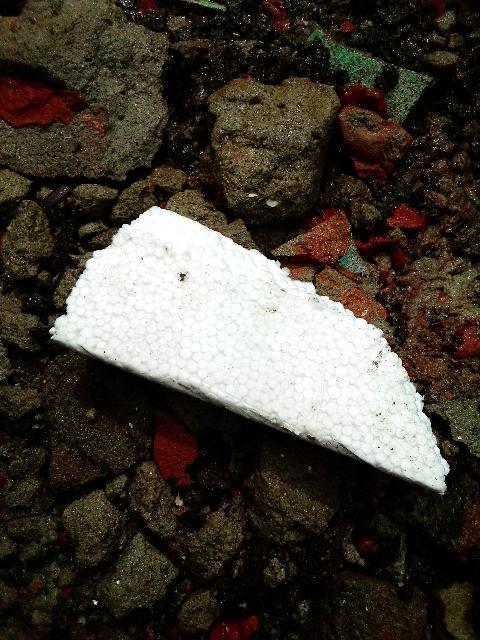cocksheet: (56, 196, 480, 524)
